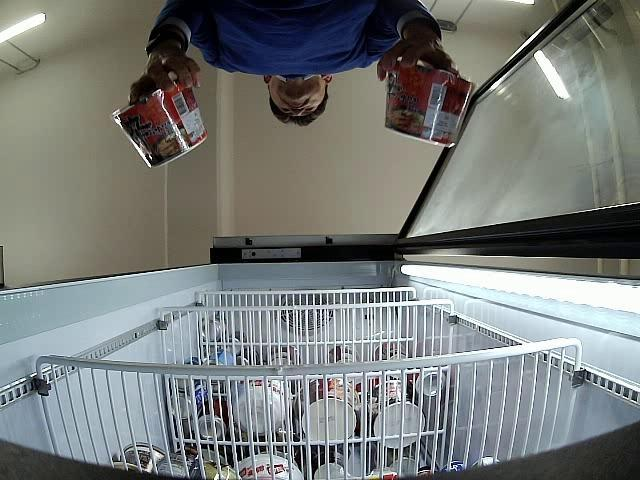01_ShinRamen_L: (110, 79, 208, 168), (384, 58, 476, 147)
